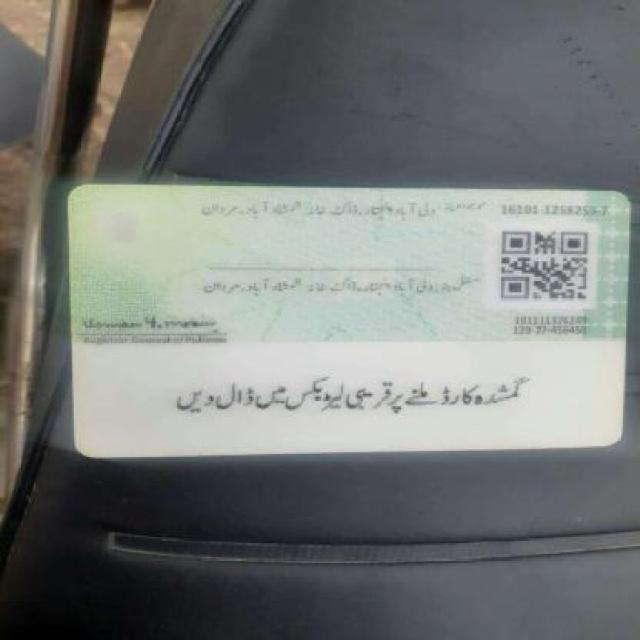Back: (55, 177, 628, 458)
